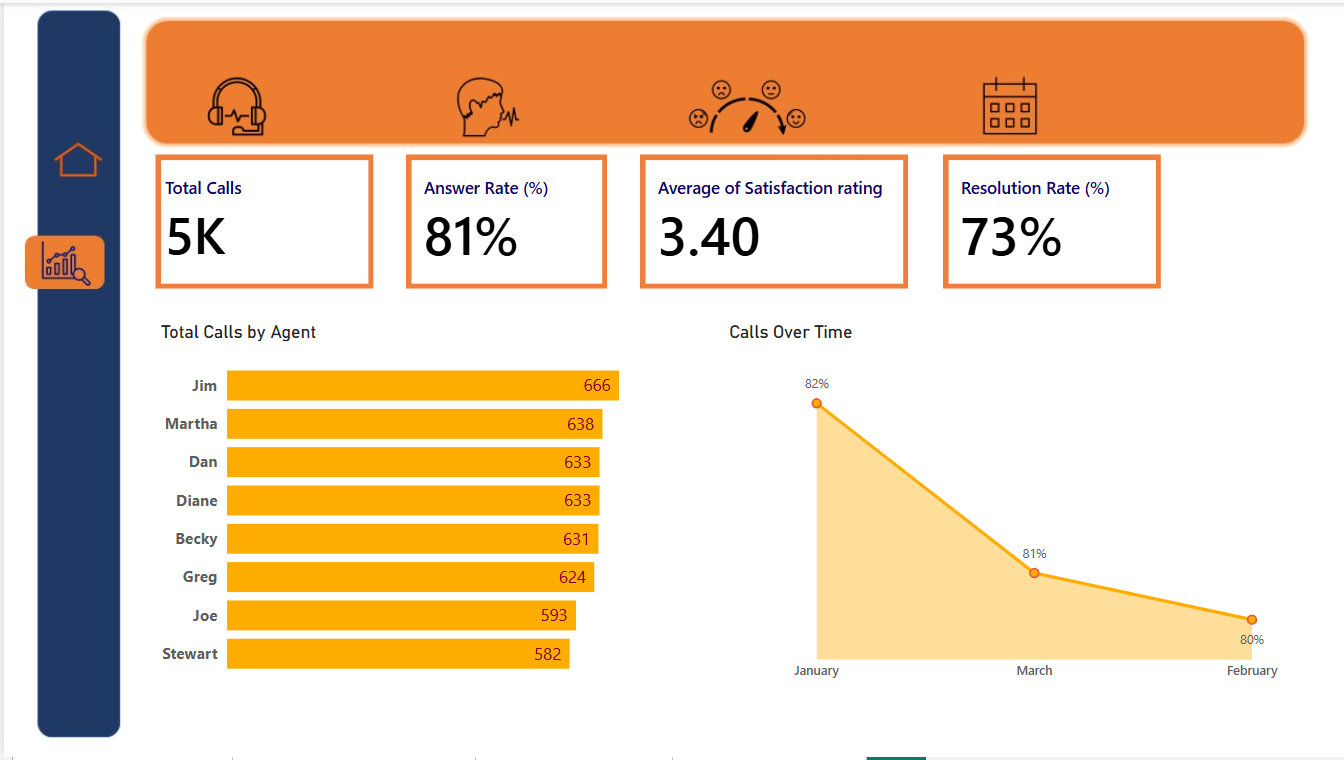

What the dashboard file says about the page in this screenshot:
{"tool":"powerbi","page":{"name":"Executive Summary","canvas":[1280,720],"ordinal":0},"visuals":[{"type":"cardVisual","fields":{"Data":["Sheet1.Total Calls"]},"box":[144,144,208,128],"z":0},{"type":"cardVisual","fields":{"Data":["Sheet1.Answer Rate (%)"]},"box":[384,144,192,128],"z":1000},{"type":"cardVisual","fields":{"Data":["Sheet1.Resolution Rate (%)"]},"box":[896,144,208,128],"z":2000},{"type":"cardVisual","fields":{"Data":["Sheet1.Satisfaction rating"]},"box":[608,144,256,128],"z":3000},{"type":"areaChart","title":"Calls Over Time ","fields":{"Category":["Sheet1.Date.Variation.Date Hierarchy.Month","Sheet1.Date.Variation.Date Hierarchy.Day"],"Y":["Sheet1.Answer Rate (%)"]},"box":[688,304,592,352],"z":4000},{"type":"treemap","fields":{"Group":["Sheet1.Agent"]},"box":[144,304,432,352],"z":5000}]}

Visuals, with their boxes on the page's 1280x720 design canvas (x1, y1, x2, y2). These are canvas units, not pixel positions in the 1344x760 screenshot, which may show the page scaled, cropped or inside an application window:
cardVisual - Sheet1.Total Calls: bbox=[144, 144, 352, 272]
cardVisual - Sheet1.Answer Rate (%): bbox=[384, 144, 576, 272]
cardVisual - Sheet1.Resolution Rate (%): bbox=[896, 144, 1104, 272]
cardVisual - Sheet1.Satisfaction rating: bbox=[608, 144, 864, 272]
"Calls Over Time " areaChart: bbox=[688, 304, 1280, 656]
treemap - Sheet1.Agent: bbox=[144, 304, 576, 656]
